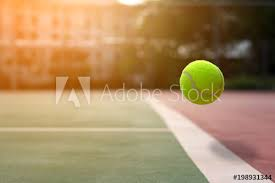tennis_ball: (179, 59, 224, 104)
